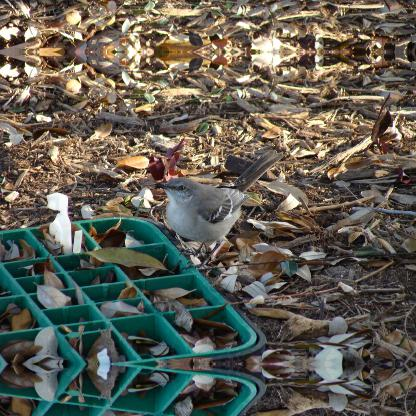Bird: (152, 157, 268, 257)
